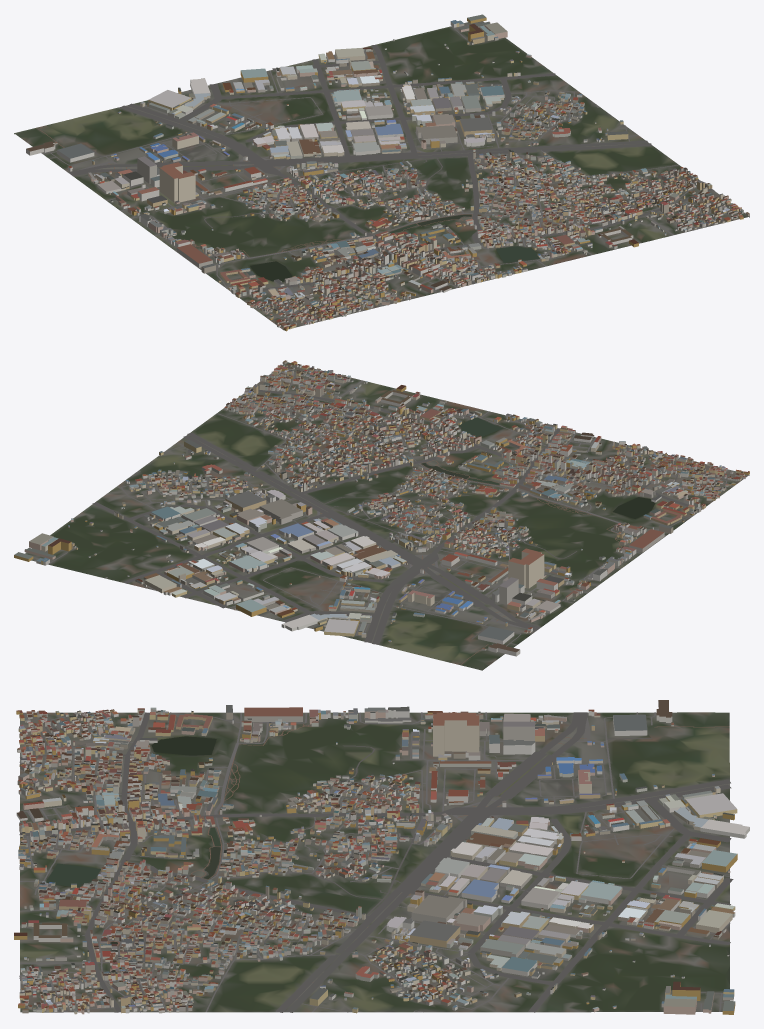
3 renders of one model, top to bottom at view 1: azimuth 30°, elevation 25°; view 2: azimuth 150°, elevation 25°; view 3: azimuth 270°, elevation 25°, orthographic. The views are drawn at different scales.
Visible parts, largest first — view 1: buildings, ground, roads, water; view 2: buildings, ground, roads, water; view 3: buildings, ground, roads, water.
Boxes of the visible parts, x1,y1,x2,y2 form: buildings: [26, 14, 749, 331]; ground: [14, 21, 749, 330]; roads: [36, 22, 729, 329]; water: [250, 214, 609, 281]; buildings: [14, 360, 749, 656]; ground: [25, 362, 749, 670]; roads: [33, 370, 747, 665]; water: [355, 412, 655, 518]; buildings: [14, 700, 749, 1014]; ground: [20, 712, 729, 1012]; roads: [19, 712, 733, 1012]; water: [46, 736, 220, 944].
Bounding box in the file's own units: 1446 × 71.71 × 1453.
